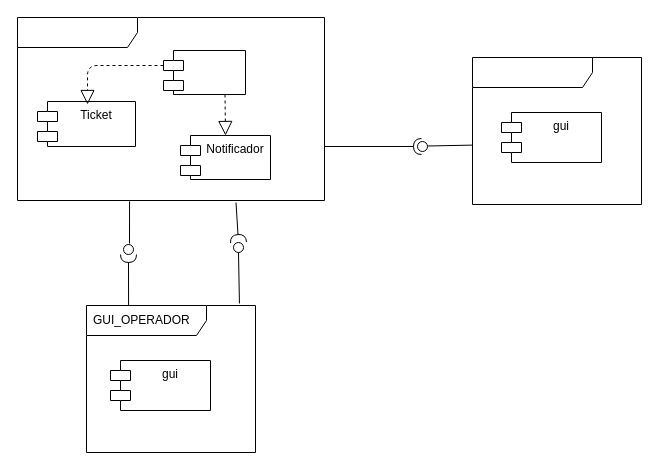
The diagram is 659 pixels wide and 470 high, and some of its shapes have lost their labels. The box of each missing label's shape, as (x1, y1, x2, y2) in pixels:
CODIGO: (16, 16, 324, 200)
GUI_CLIENTE: (472, 56, 642, 204)
Usuario: (162, 50, 246, 94)
